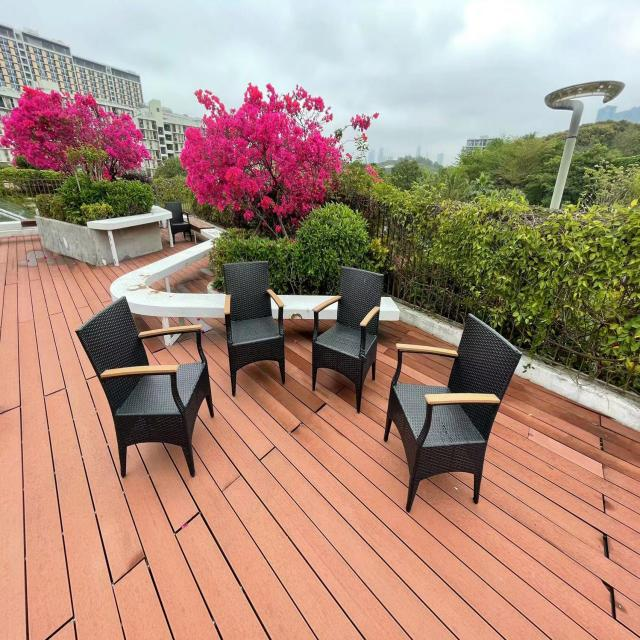chair: (386, 297, 523, 520), (71, 290, 217, 477), (310, 257, 382, 408), (218, 251, 290, 394)
